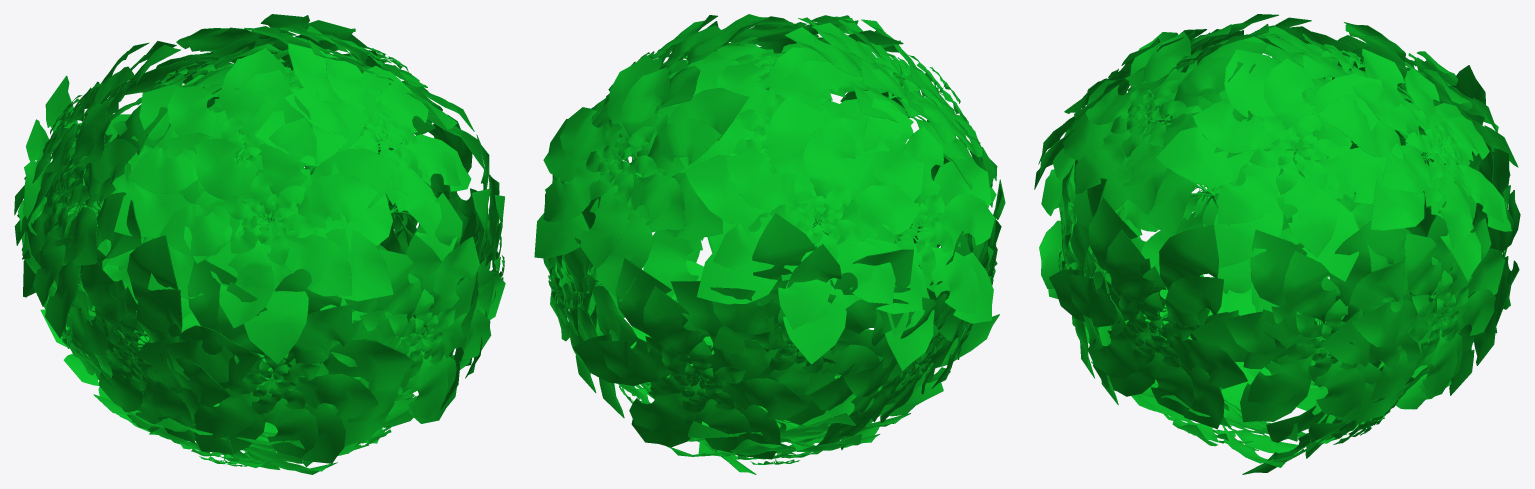
The model's file is buisson_arbre_asset.fbx.
3 renders of one model, left to right at view 1: azimuth 30°, elevation 25°; view 2: azimuth 150°, elevation 25°; view 3: azimuth 270°, elevation 25°, orthographic. The views are drawn at different scales.
Parts seen in each view (by area): view 1: feuille_16 (×16), feuille_11 (×18), feuille_17 (×8), feuille_18 (×5), feuille_15 (×5); view 2: feuille_16 (×16), feuille_11 (×19), feuille_17 (×9), feuille_18 (×4), feuille_15 (×3); view 3: feuille_16 (×15), feuille_11 (×21), feuille_17 (×6), feuille_15 (×5), feuille_18 (×5).
Boxes of the visible parts, bbox=[...] form: feuille_16 (×16): bbox=[14, 14, 504, 474]; feuille_11 (×18): bbox=[14, 20, 505, 467]; feuille_17 (×8): bbox=[42, 83, 455, 414]; feuille_18 (×5): bbox=[113, 113, 442, 402]; feuille_15 (×5): bbox=[54, 141, 449, 389]; feuille_16 (×16): bbox=[543, 15, 1005, 456]; feuille_11 (×19): bbox=[534, 14, 999, 459]; feuille_17 (×9): bbox=[549, 47, 953, 412]; feuille_18 (×4): bbox=[597, 136, 940, 402]; feuille_15 (×3): bbox=[608, 114, 877, 412]; feuille_16 (×15): bbox=[1038, 14, 1520, 467]; feuille_11 (×21): bbox=[1034, 17, 1518, 474]; feuille_17 (×6): bbox=[1110, 80, 1470, 377]; feuille_15 (×5): bbox=[1111, 72, 1463, 382]; feuille_18 (×5): bbox=[1126, 92, 1460, 354].
Bounding box in the file's own units: 8.91 × 8.78 × 9.33.
